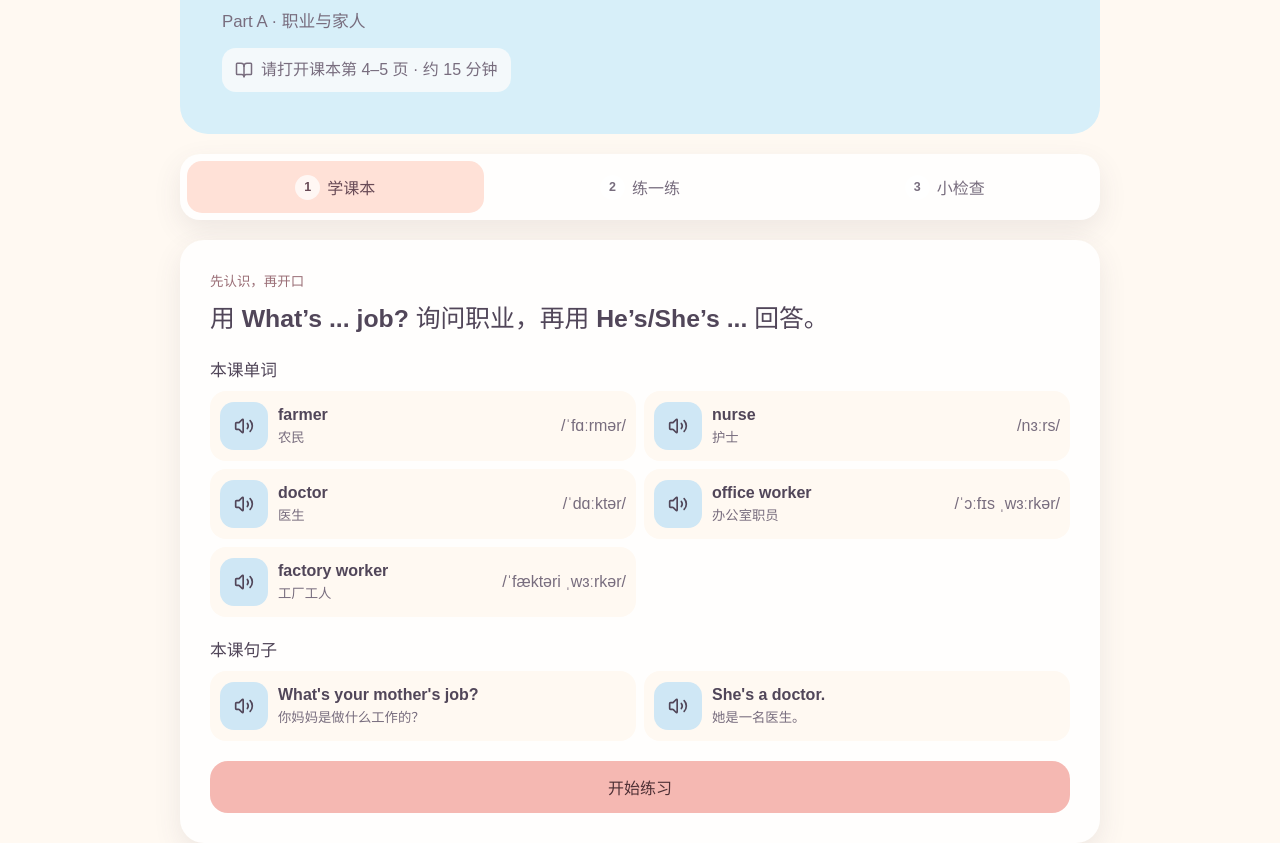
Test: SchoolLesson › keeps one active learning step and records the practice result near the question
(page scrolled)
Expected: the button "检查答案" is not shown
Click the button "开始练习": point(640, 787) [210,761,1070,813]
(page scrolled)
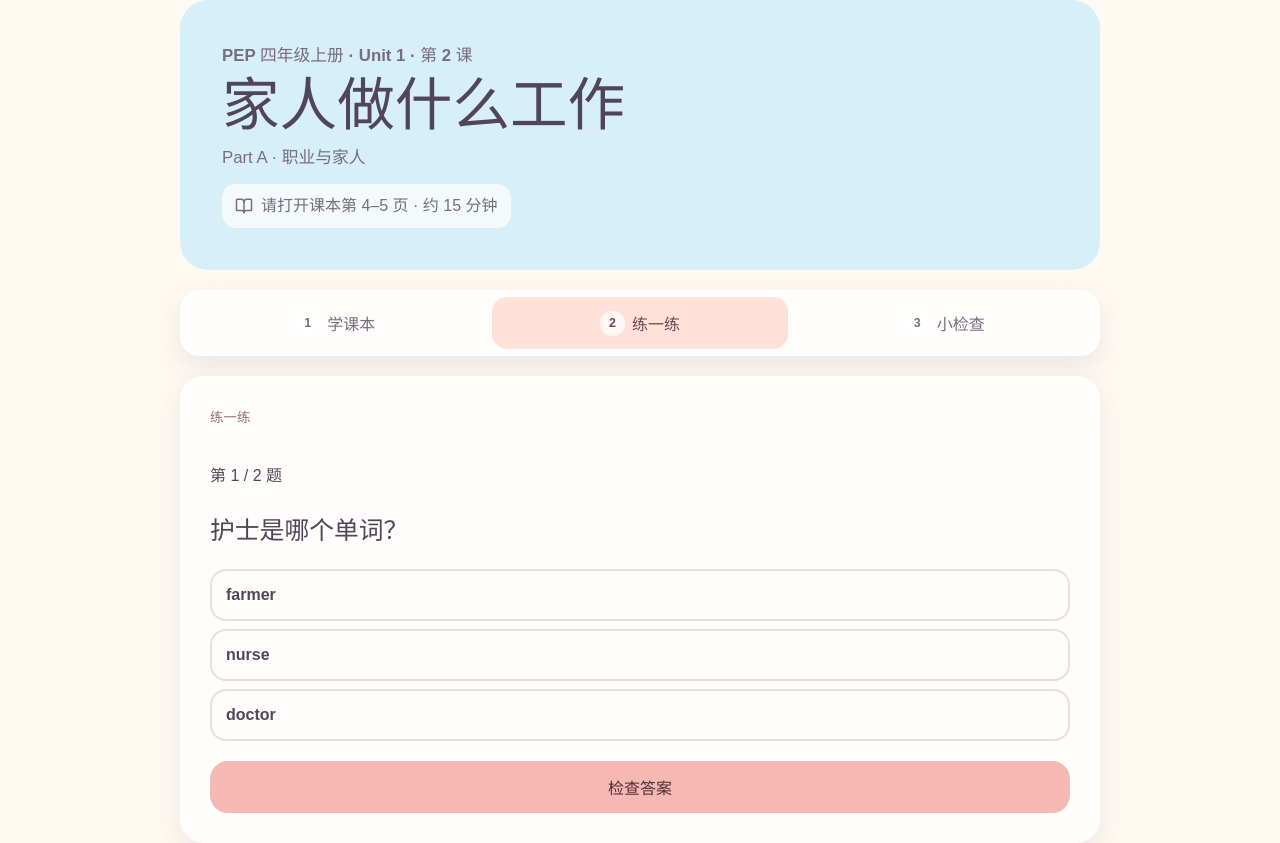
Click the button "nurse": point(248, 655) [210,629,1070,681]
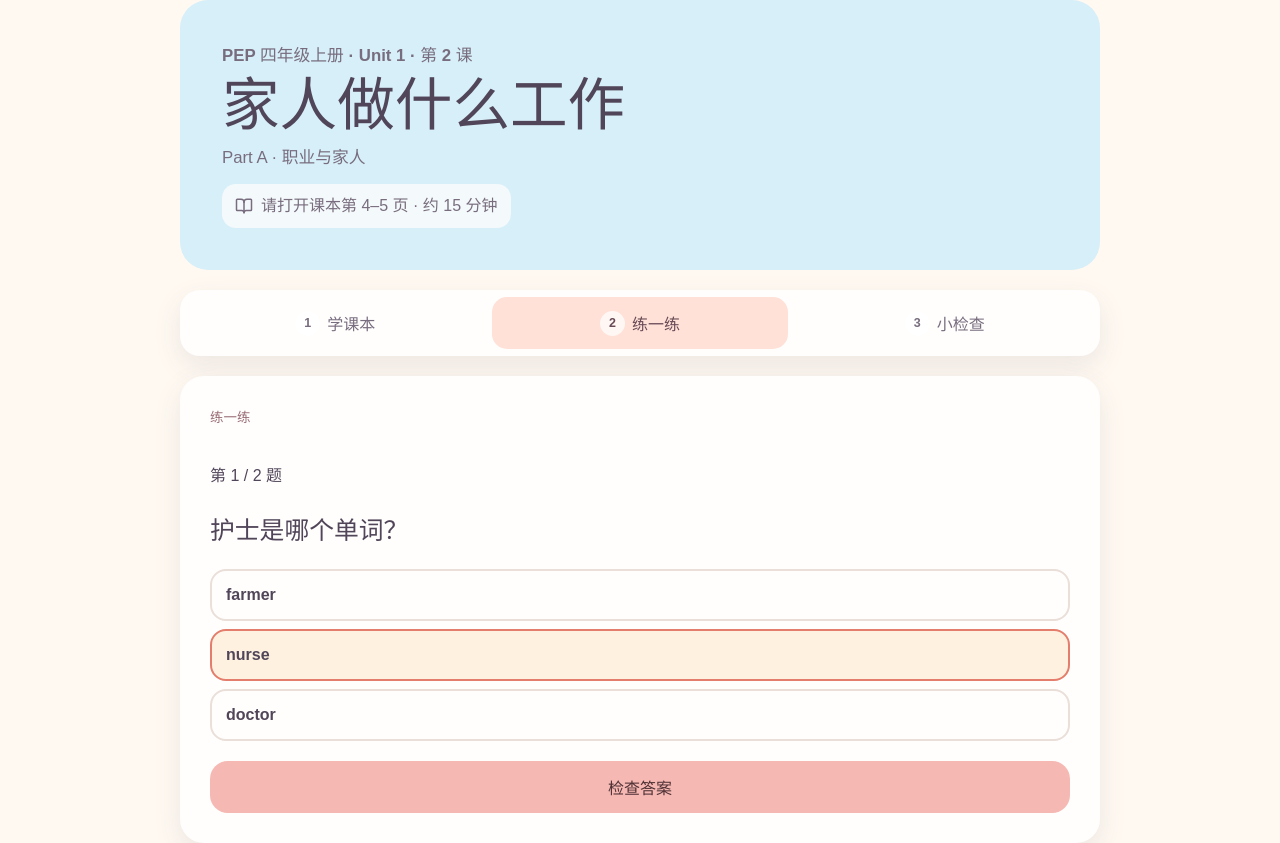
Click the button "检查答案": point(640, 787) [210,761,1070,813]
(page scrolled)
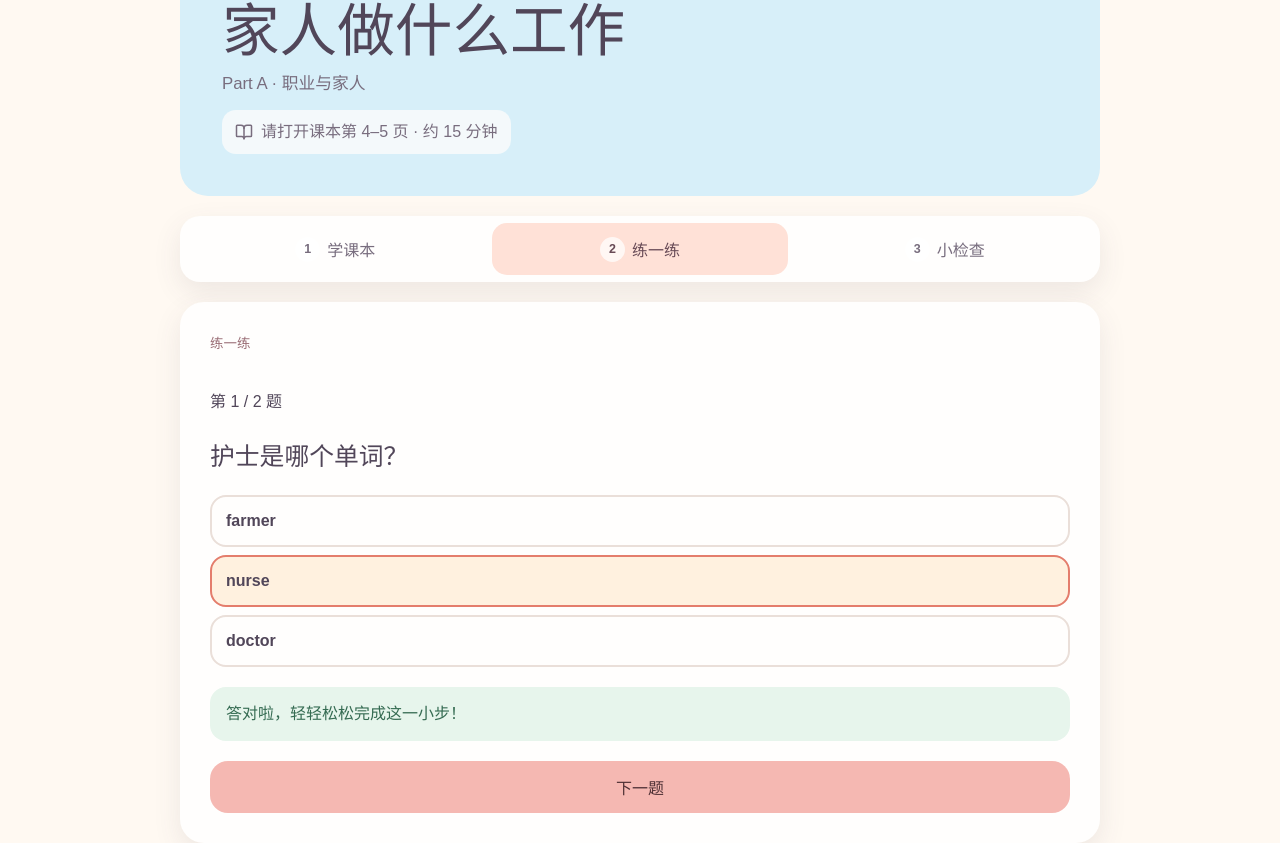
Expected: the message shows "答对啦", [226,705,466,722]
